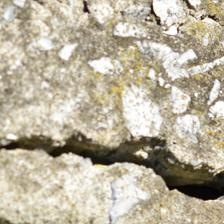Crack: (3, 61, 219, 144)
